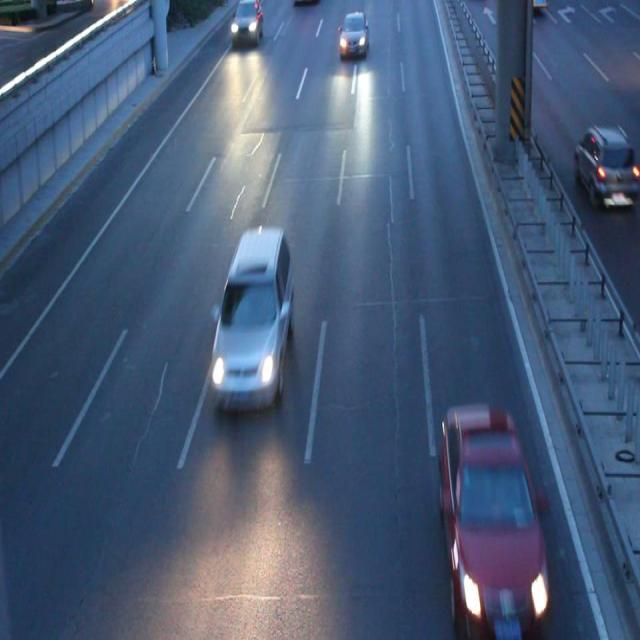car: (440, 406, 548, 616), (211, 232, 291, 408), (573, 128, 640, 198), (231, 1, 262, 45), (339, 13, 368, 52)
van: (514, 1, 544, 11)
